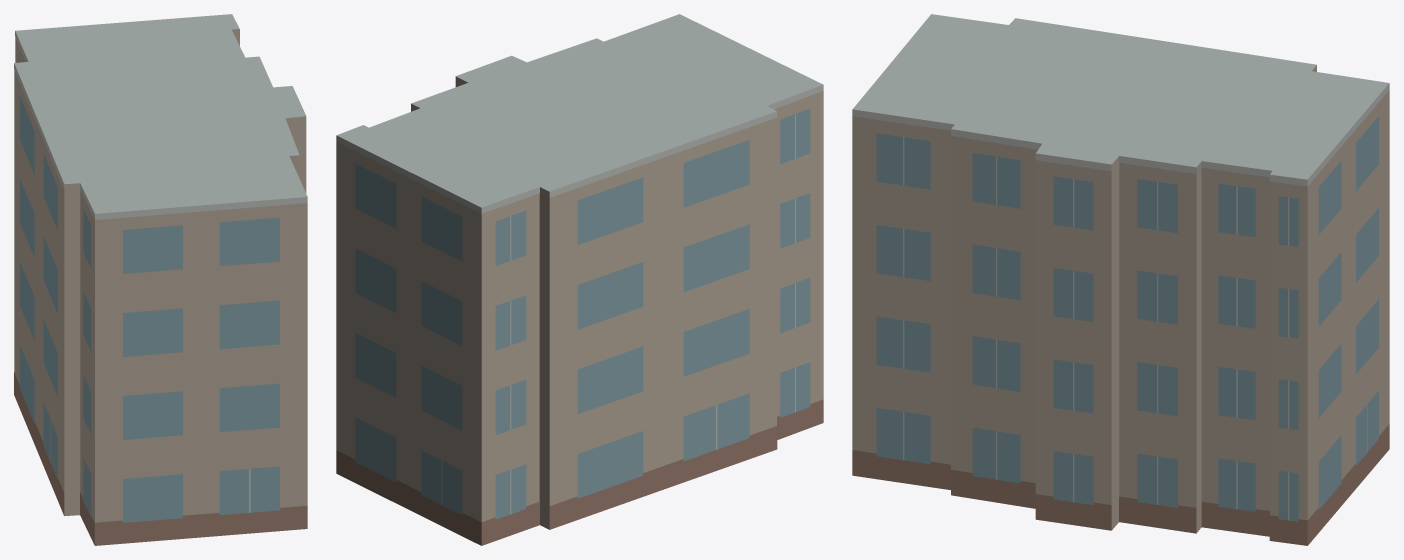
File: survey-upis-32952559.glb
3 views of the same model, side by side, from view 1: azimuth 30°, elevation 25°; view 2: azimuth 150°, elevation 25°; view 3: azimuth 270°, elevation 25° (orthographic). The views are drawn at different scales.
Parts seen in each view (by area): view 1: survey-upis-32952559.tmp; view 2: survey-upis-32952559.tmp; view 3: survey-upis-32952559.tmp.
Part boxes in pixels (<box>): survey-upis-32952559.tmp: <box>14,14,307,545</box>; survey-upis-32952559.tmp: <box>336,14,823,545</box>; survey-upis-32952559.tmp: <box>852,14,1389,545</box>.
Size of the model in its own units: 12.82 by 13.2 by 17.56.
